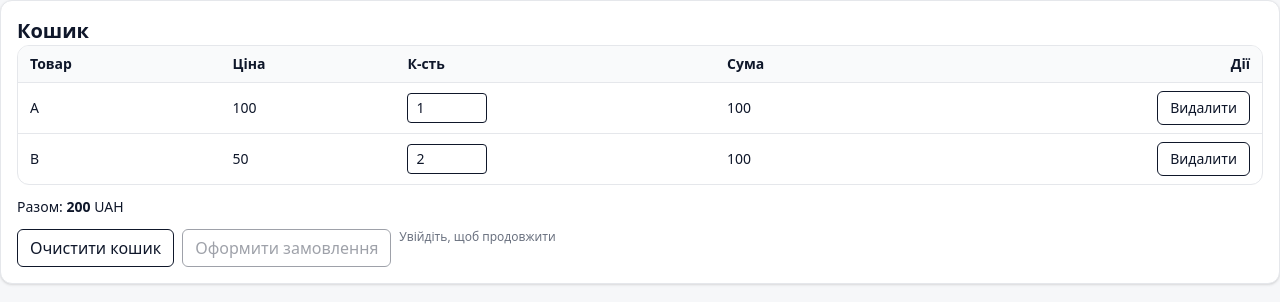
Test case: Cart page › renders items and updates qty/delete/clear; checkout disabled for guest
Replace the text in the number field named "qty-L2" with "3" at coordinates (448, 159), box [408,144,488,174]
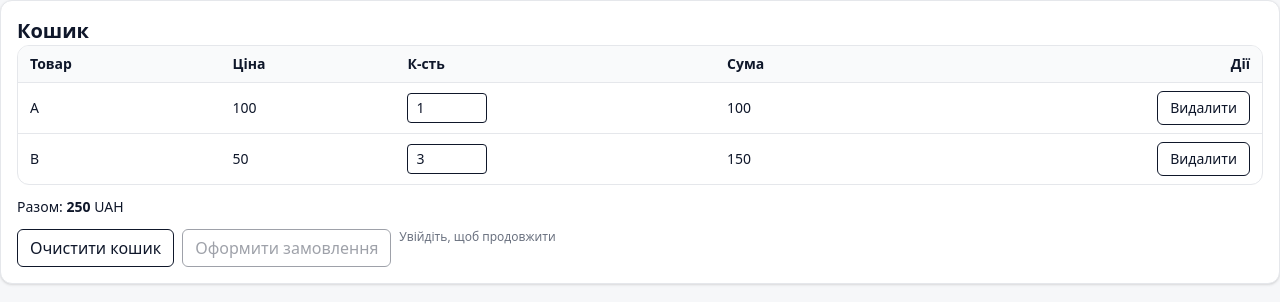
Click the 1st button "Видалити" at coordinates (1204, 108), box [1157,91,1250,125]
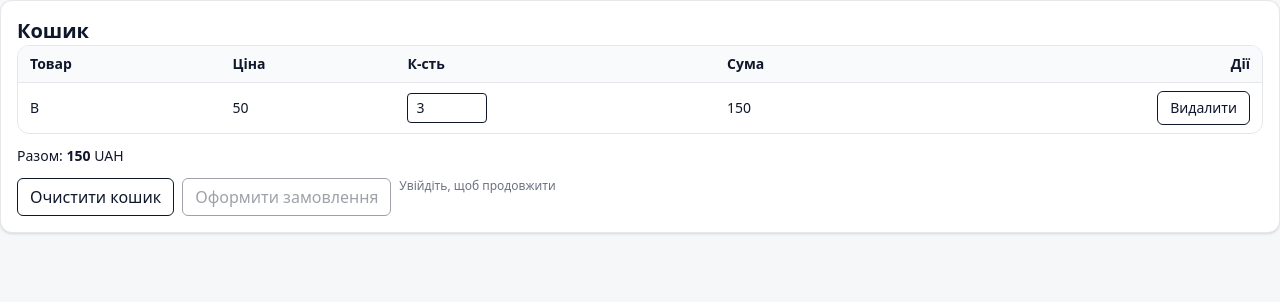
Click the button "Очистити кошик" at coordinates (96, 197), box [17,178,174,216]
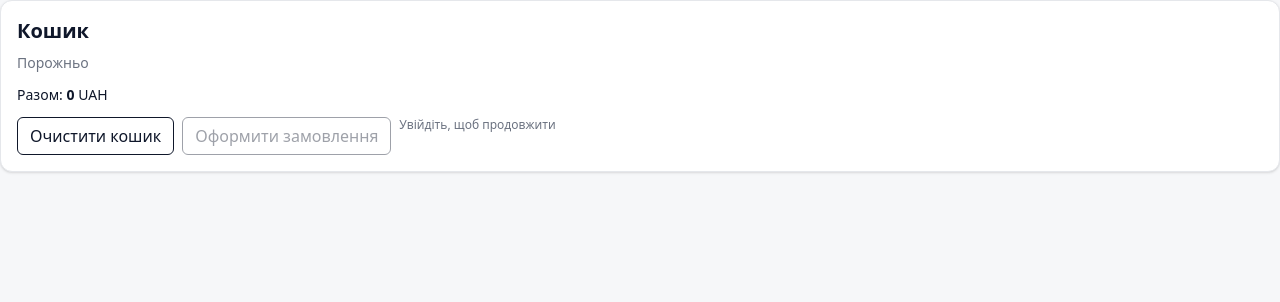
Check: the button "Оформити замовлення" is disabled, box [182,117,391,155]
Check: the text "Порожньо" is shown, box [17,53,89,72]
